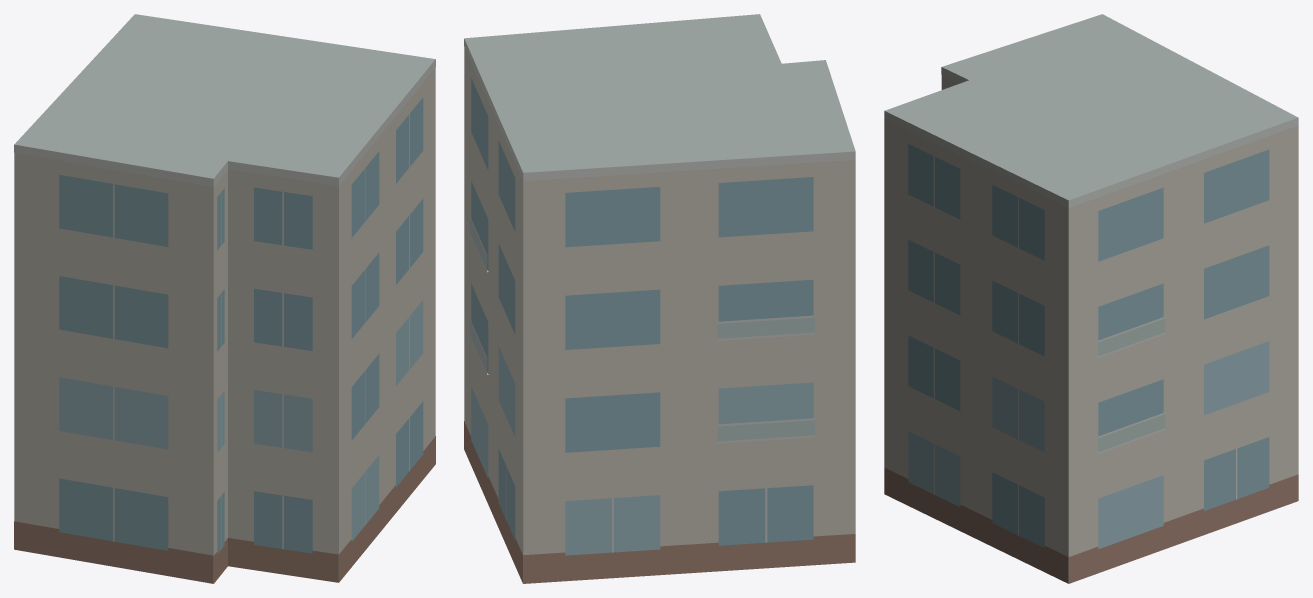
File: survey-upis-32695573.glb
3 renders of one model, left to right at view 1: azimuth 30°, elevation 25°; view 2: azimuth 150°, elevation 25°; view 3: azimuth 270°, elevation 25°, orthographic. The views are drawn at different scales.
Visible parts, largest first — view 1: survey-upis-32695573.tmp; view 2: survey-upis-32695573.tmp; view 3: survey-upis-32695573.tmp.
Boxes of the visible parts, <box> form: survey-upis-32695573.tmp: <box>14,14,435,583</box>; survey-upis-32695573.tmp: <box>464,14,855,583</box>; survey-upis-32695573.tmp: <box>884,14,1298,583</box>.
Bounding box in the file's own units: 12.73 × 12.2 × 11.95.
